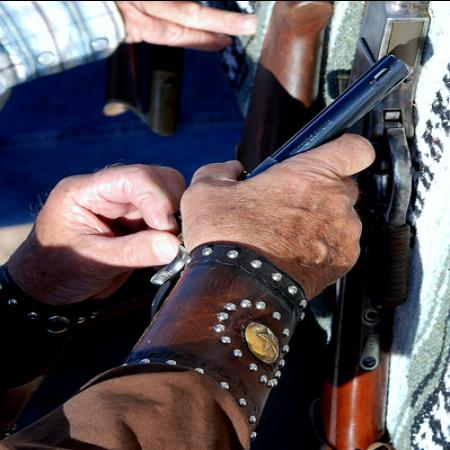Pistol: (148, 50, 410, 322)
